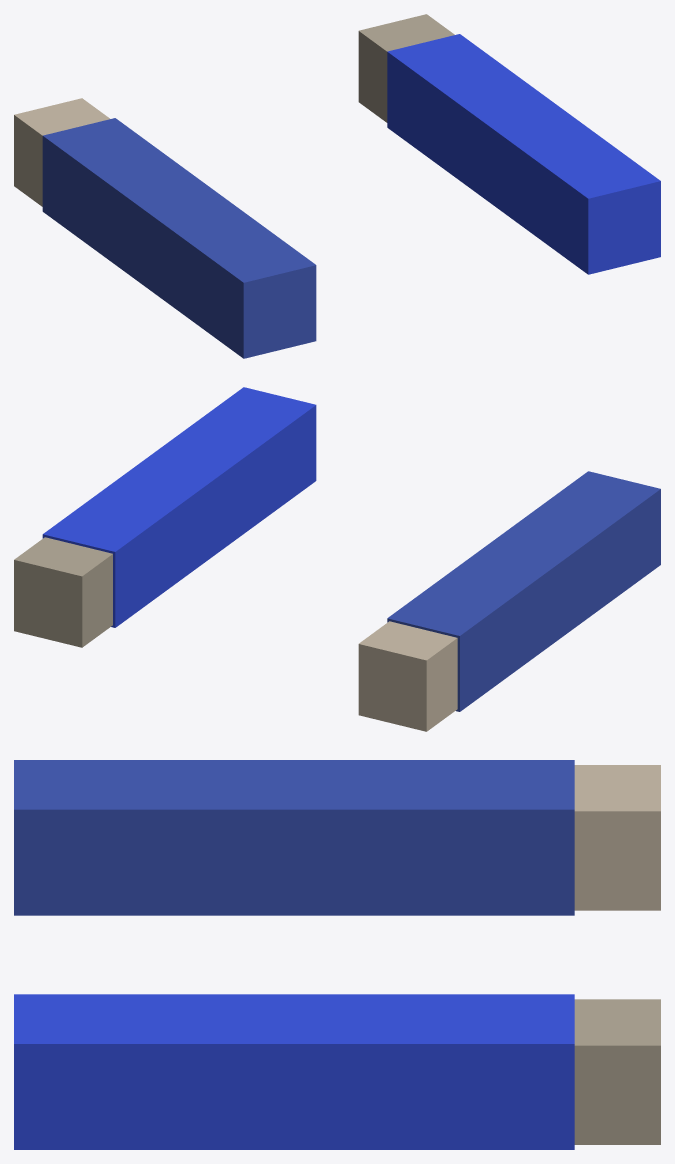
File: arms.fbx
3 views of the same model, one above another, from view 1: azimuth 30°, elevation 25°; view 2: azimuth 150°, elevation 25°; view 3: azimuth 270°, elevation 25° (orthographic). The views are drawn at different scales.
Parts seen in each view (by area): view 1: Cube.003, Cube, Cube.001, Cube.002; view 2: Cube, Cube.003, Cube.002, Cube.001; view 3: Cube, Cube.003, Cube.001, Cube.002.
Boxes of the visible parts, x1,y1,x2,y2 form: Cube.003: [42, 118, 316, 358]; Cube: [387, 34, 660, 274]; Cube.001: [358, 14, 454, 122]; Cube.002: [14, 98, 109, 206]; Cube: [42, 387, 316, 627]; Cube.003: [387, 471, 660, 711]; Cube.002: [358, 621, 457, 731]; Cube.001: [14, 537, 112, 647]; Cube: [14, 994, 574, 1149]; Cube.003: [14, 760, 574, 915]; Cube.001: [574, 999, 660, 1144]; Cube.002: [574, 765, 660, 910].
Size of the model in its own units: 1148 by 200 by 1106.
